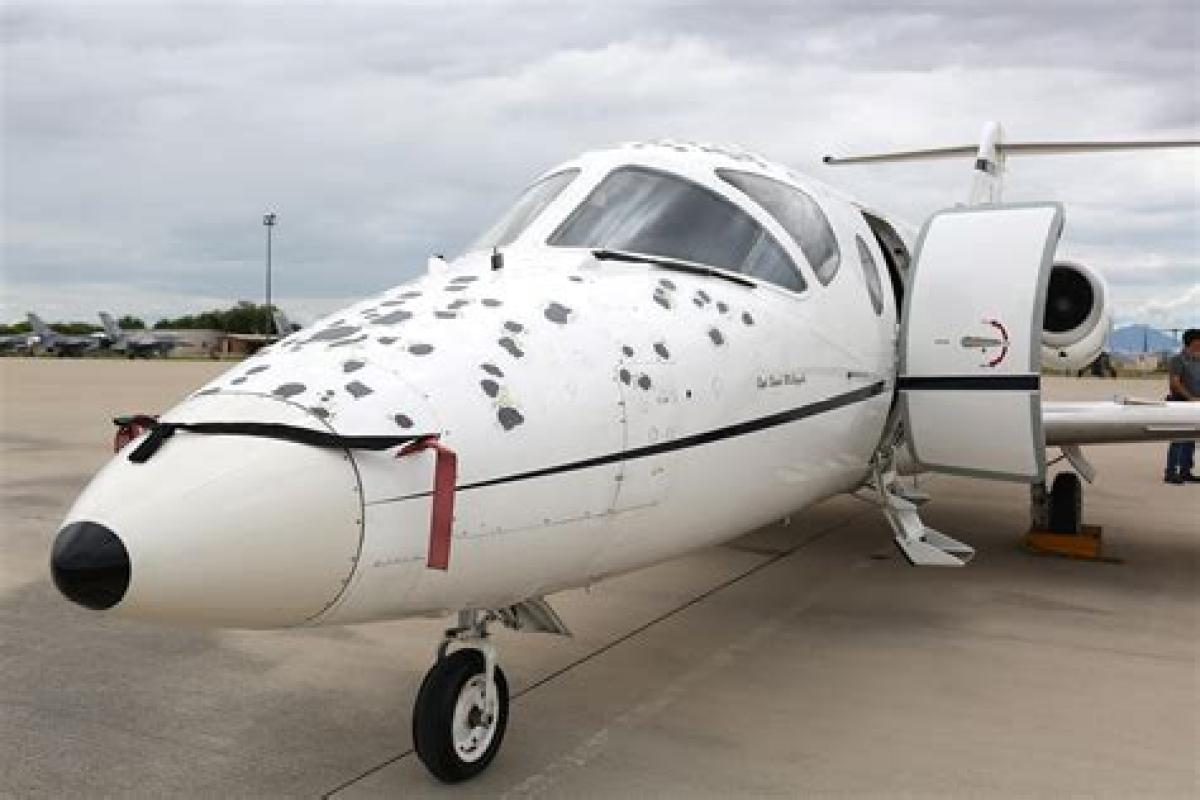Fuselage_damage: (181, 128, 807, 448)
